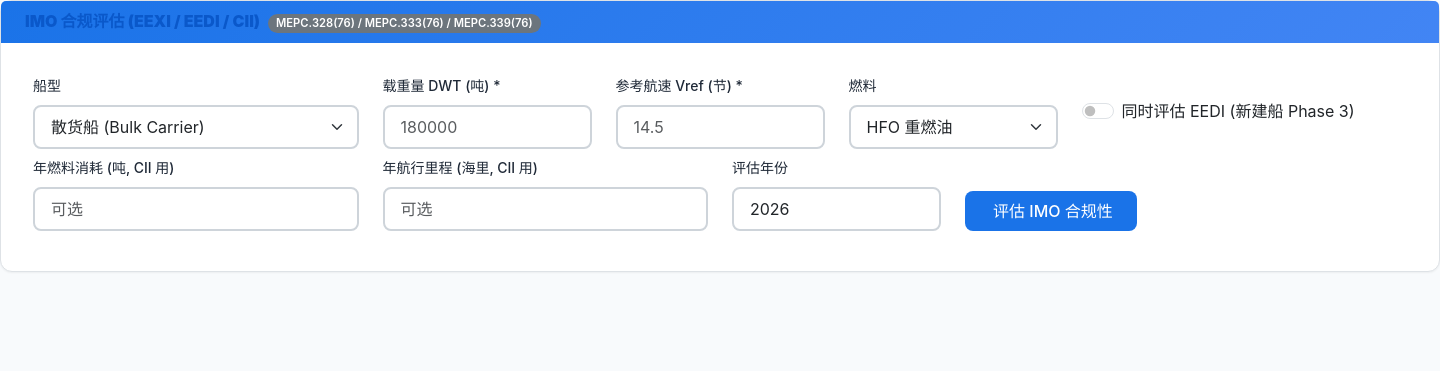
Test: IMOCompliancePanel › 勾选 EEDI 后结果表多一行 EEDI
Type "100000" into the number field with placeholder "180000".
click(487, 127); type("100000")  # box [382,105,592,149]
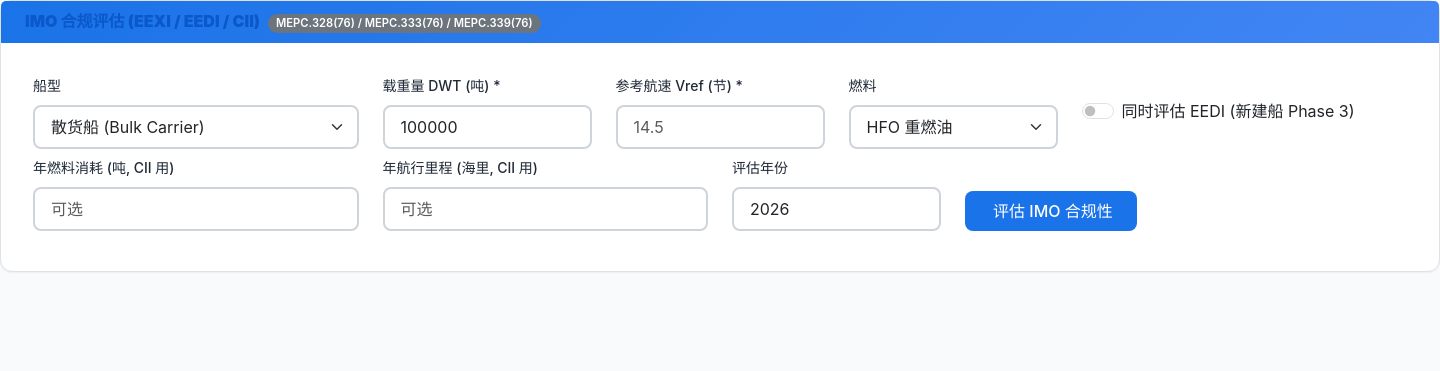
Type "14" into the number field with placeholder "14.5".
click(720, 127); type("14")  # box [616,105,824,149]
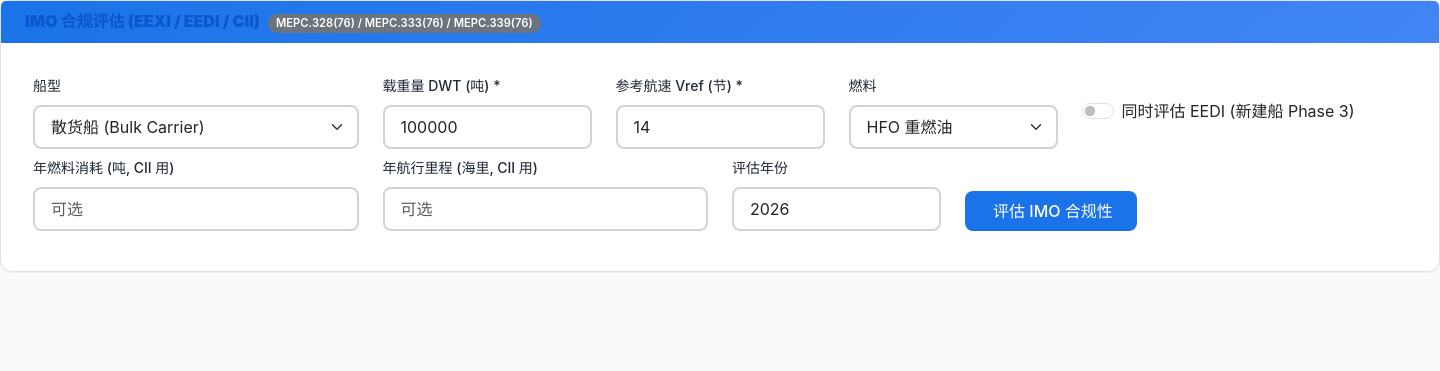
Click the checkbox labelled "同时评估 EEDI (新建船 Phase 3)".
click(1098, 111)  # box [1082,103,1114,119]
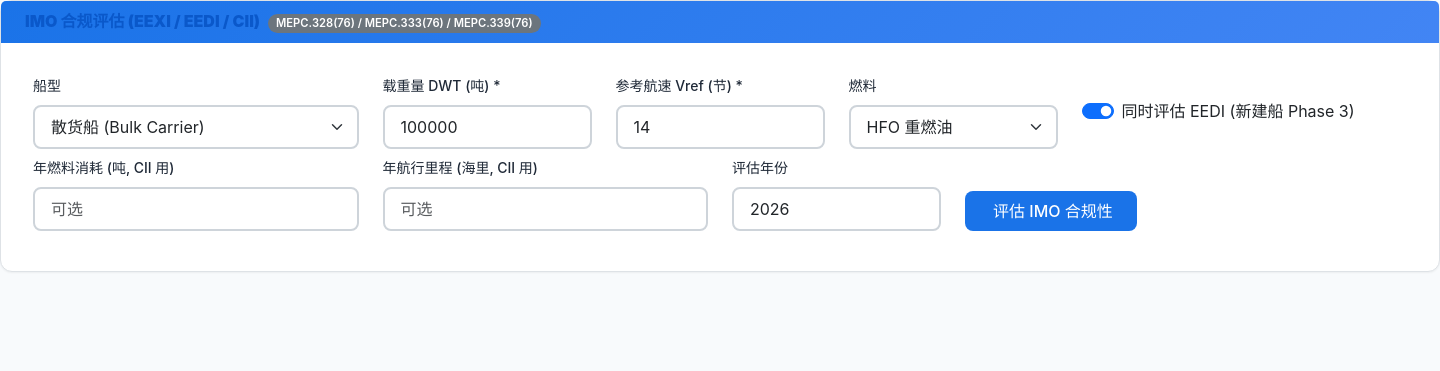
Click the button "评估 IMO 合规性".
click(1051, 211)  # box [965,191,1137,231]
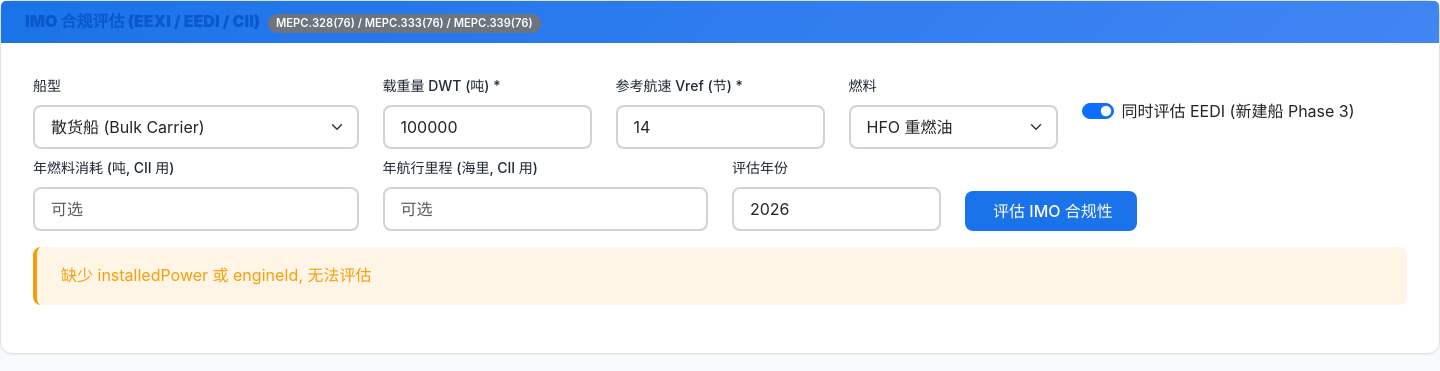
Expected: the text "缺少 installedPower 或 engineId, 无法评估" is shown, [33,247,1407,305]
